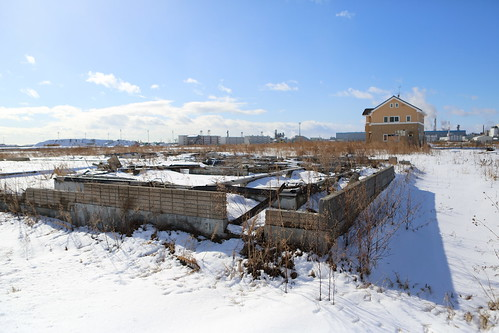building: (362, 92, 427, 147)
debris: (1, 140, 385, 234)
sky: (1, 1, 493, 124)
